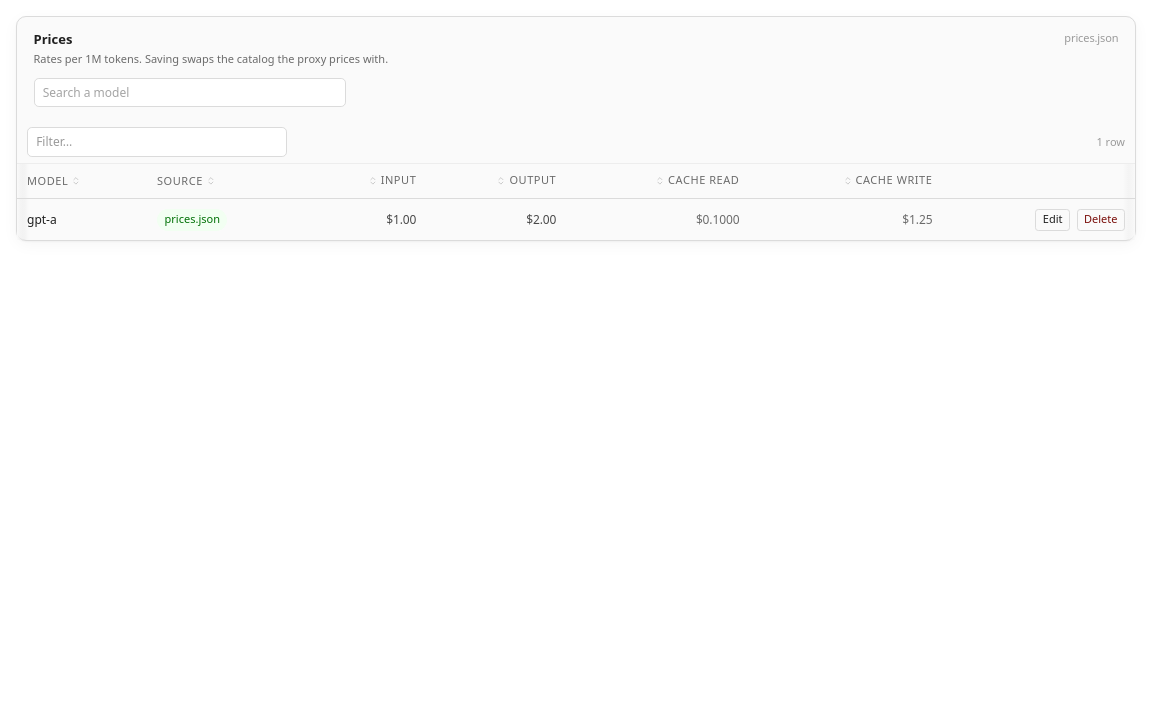
Test case: PricesView › saves edited rates through the PUT endpoint
Expected: the text "gpt-a" is shown, top-left (27, 211), bottom-right (57, 228)
Click the button "Edit".
click(1053, 220)  # box top-left (1035, 209), bottom-right (1070, 231)
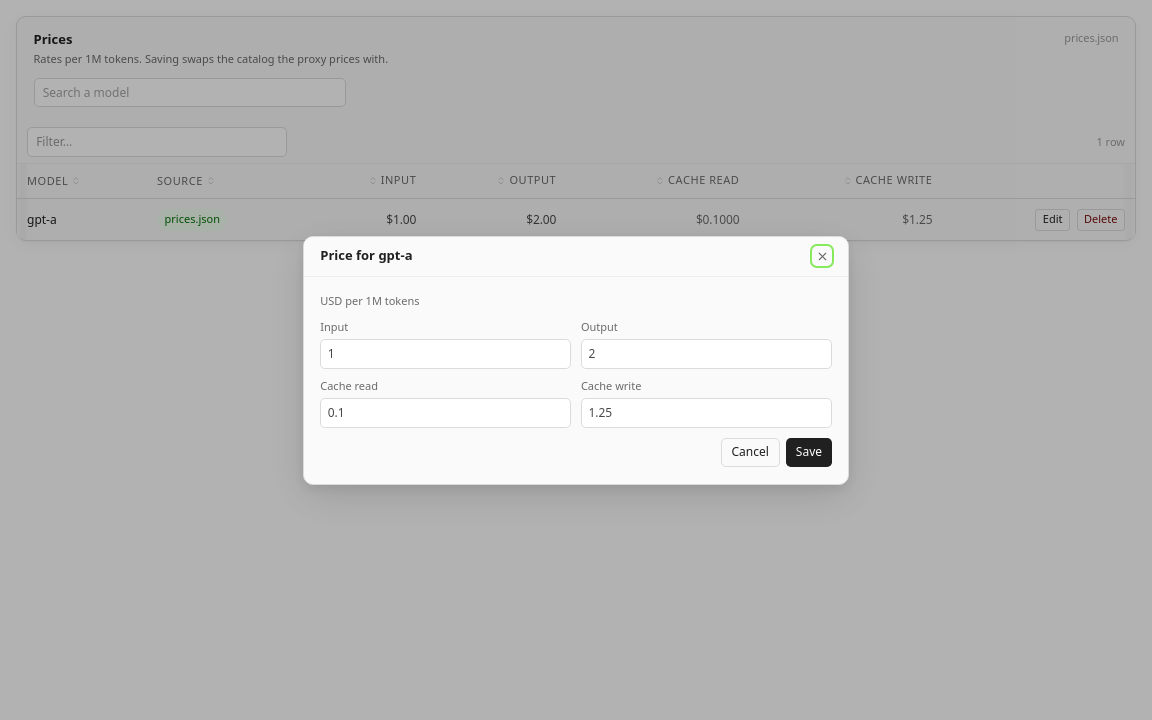
Replace the text in the number field labelled "Input" with "3" at (446, 354), box top-left (320, 339), bottom-right (571, 369)
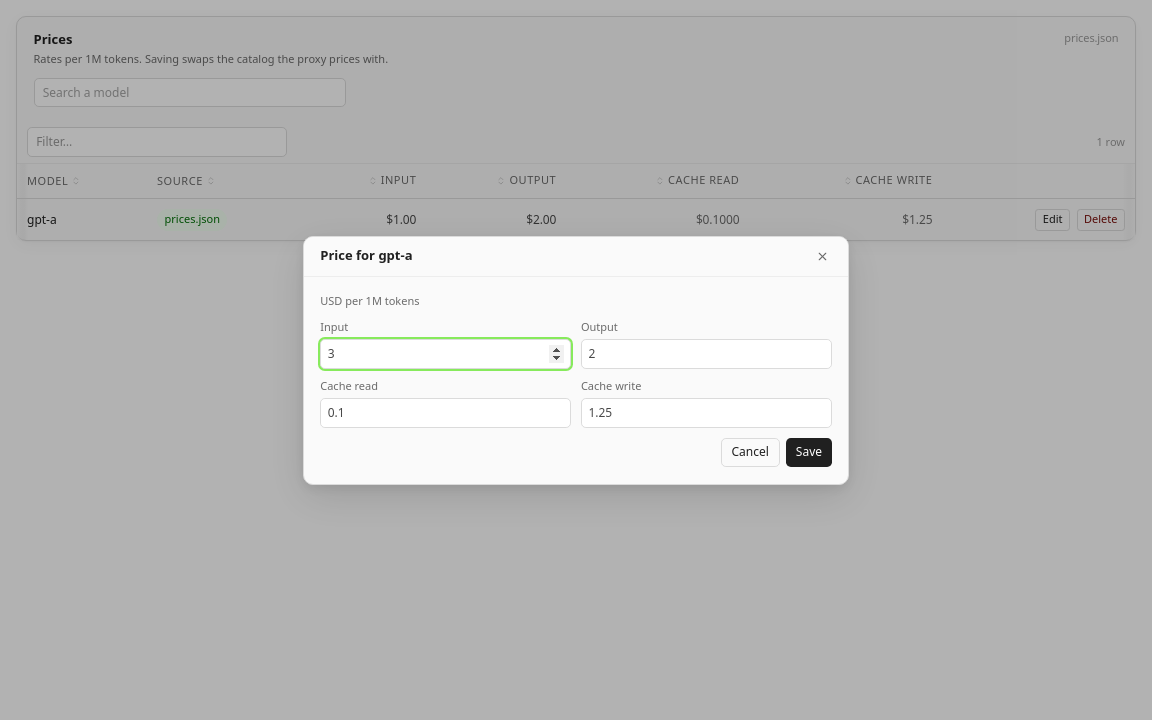
Click the button "Save".
click(809, 452)  # box top-left (786, 438), bottom-right (832, 467)
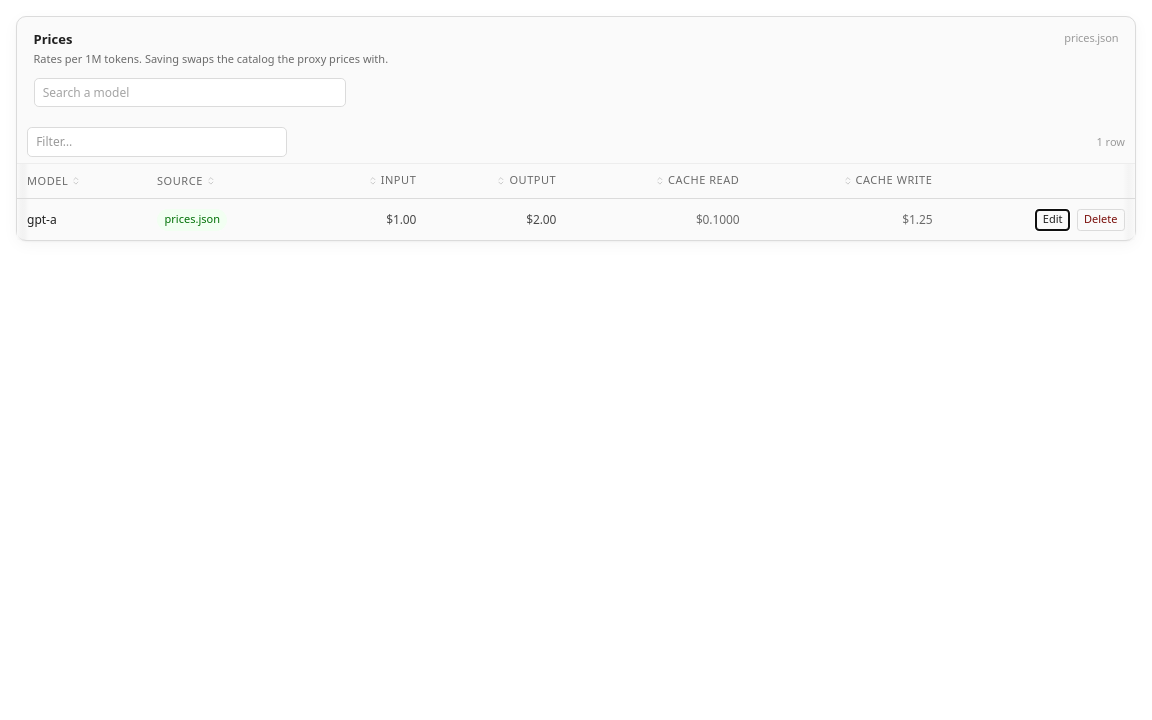
Result: the dialog is gone
